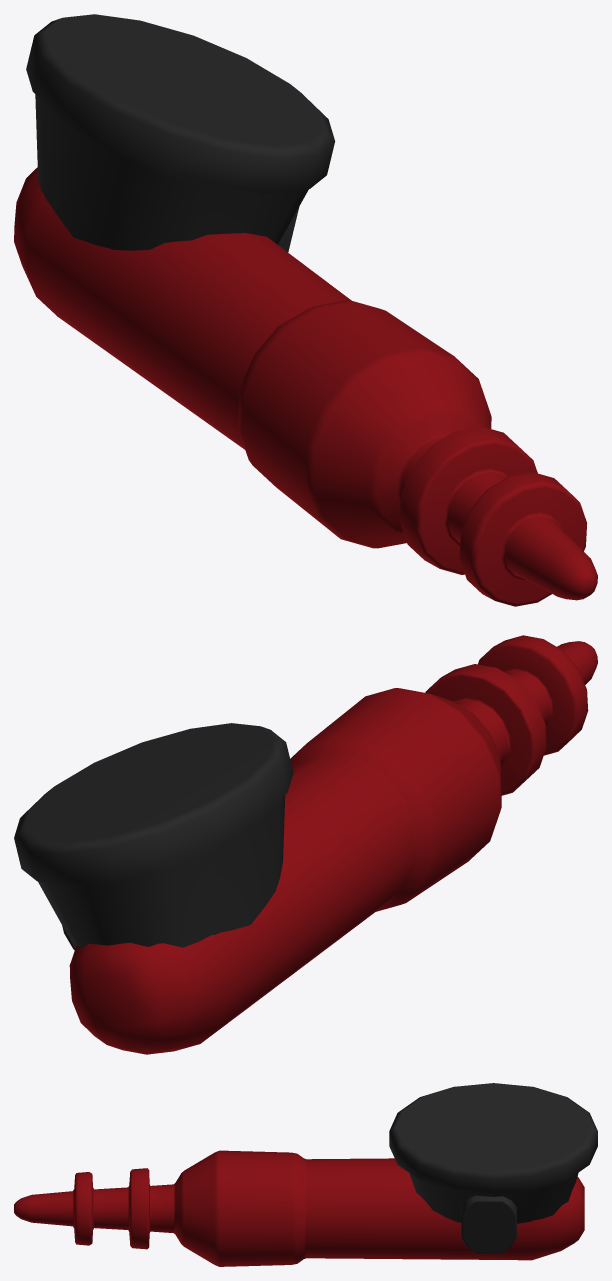
File: Ship_Boss_02_Weapon_L_02.fbx
The picture shows the model from 3 angles, top to bottom: view 1: azimuth 30°, elevation 25°; view 2: azimuth 150°, elevation 25°; view 3: azimuth 270°, elevation 25°; orthographic projection. The views are drawn at different scales.
Parts seen in each view (by area): view 1: Ship_Boss_02_Weapon_L_02; view 2: Ship_Boss_02_Weapon_L_02; view 3: Ship_Boss_02_Weapon_L_02.
Boxes of the visible parts, left/top/right/bottom form: Ship_Boss_02_Weapon_L_02: left=14, top=14, right=597, bottom=606; Ship_Boss_02_Weapon_L_02: left=14, top=635, right=597, bottom=1054; Ship_Boss_02_Weapon_L_02: left=14, top=1083, right=597, bottom=1266.
Size of the model in its own units: 168 by 192 by 631.
